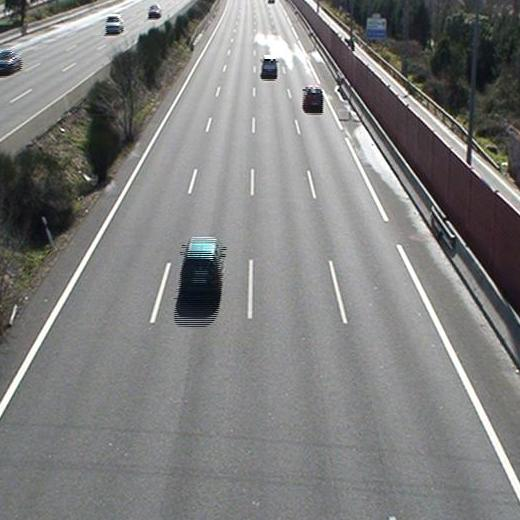car: (180, 235, 224, 296), (303, 85, 323, 110), (261, 55, 278, 78)
